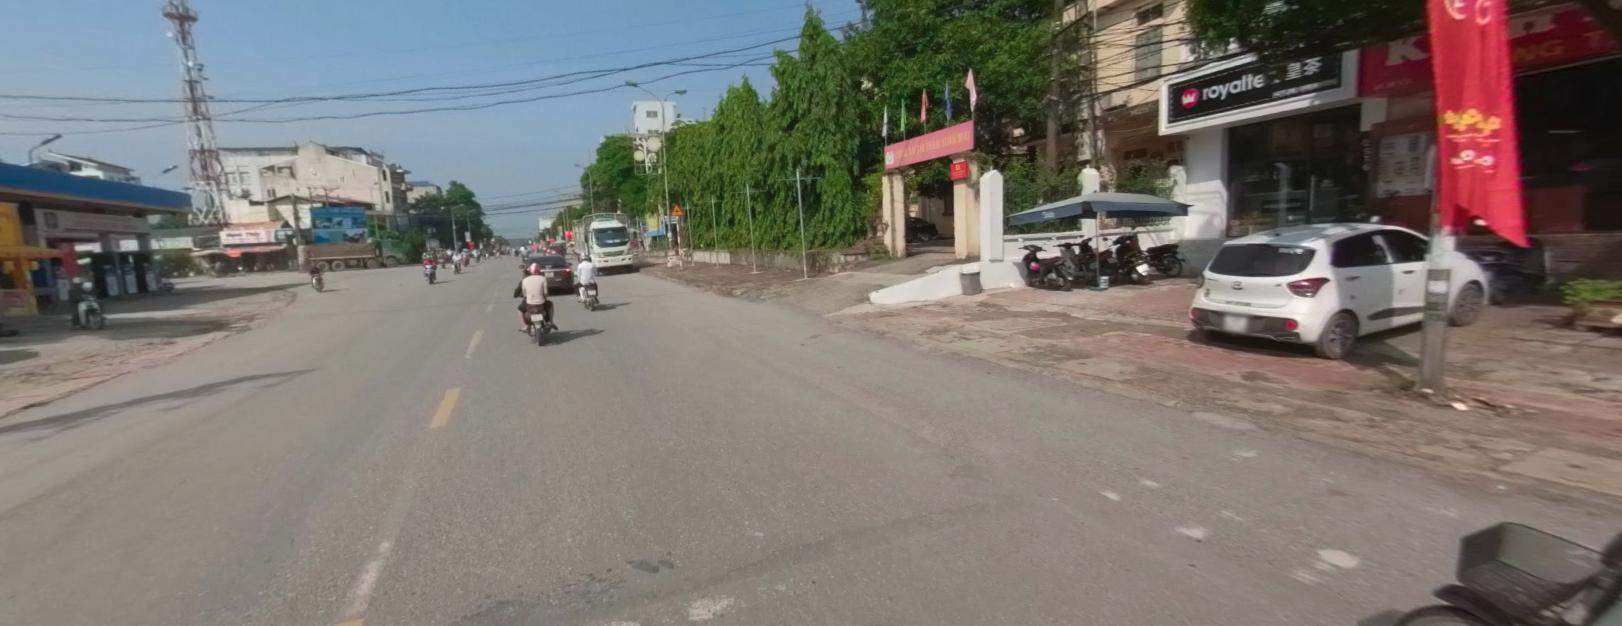Nguy hiem: (670, 202, 683, 213), (669, 203, 682, 214), (670, 202, 682, 214), (670, 203, 683, 214), (671, 203, 683, 214), (670, 203, 682, 214)
